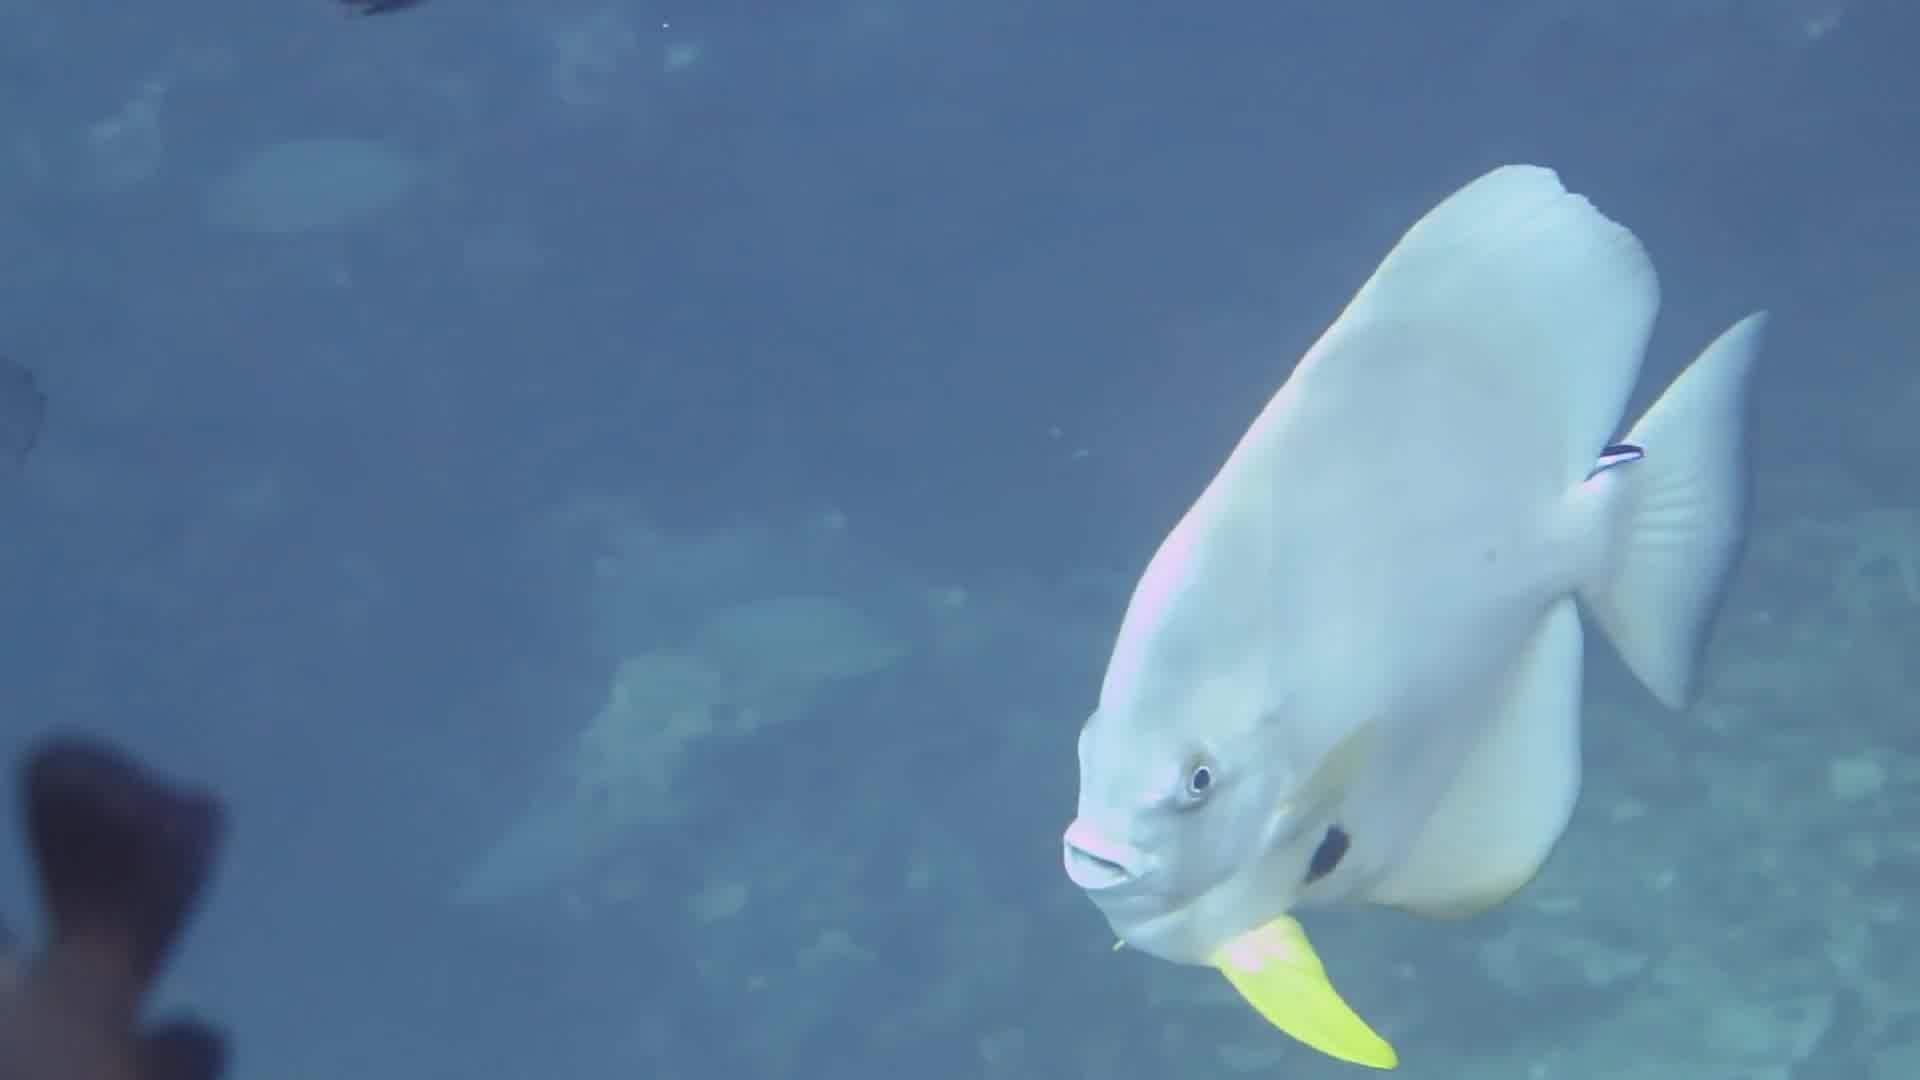Platax teira: (990, 145, 1840, 1080)
